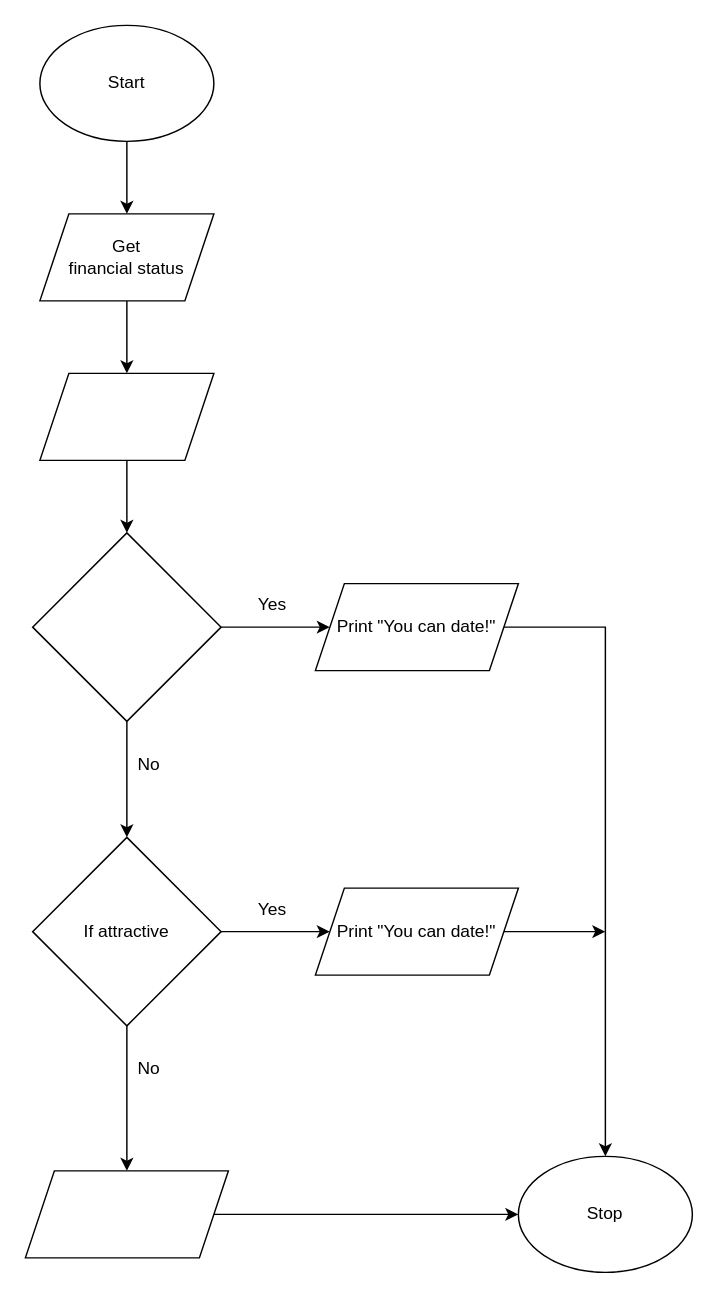
The diagram is 718 pixels wide and 1298 high, and some of its shapes have lost their labels. The centre of each missing label's shape, as x and y in pixels:
Get visual status: the point at 126,416
If rich: the point at 126,626
Print "Ew, get out!": the point at 126,1213
